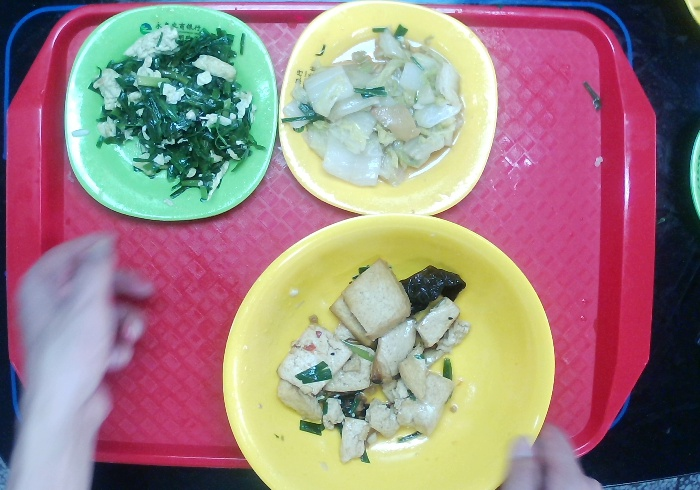YKMZ-Huang_Se_Fang_Die: (279, 1, 498, 217)
YKMZ-Huang_Se_Tang_Wan: (222, 216, 556, 490)
YKMZ-Lv_Se_Fang_Die: (61, 8, 276, 223)
